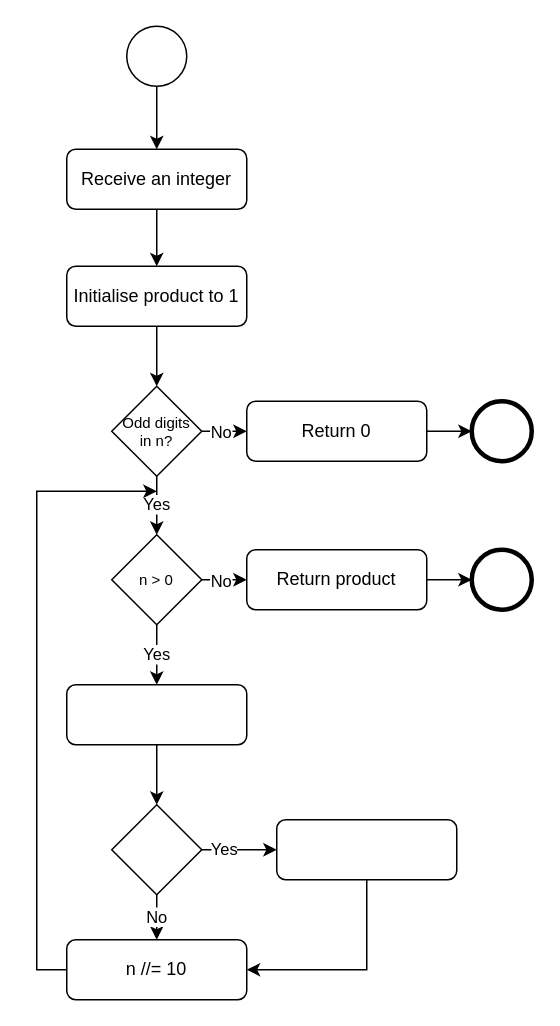
This 560x1026 diagram has some shape labels left out. Here are the shapes that lost their labels. From the top down, the box of each, then its label:
(65, 683, 247, 745): d = n % 10
(110, 803, 202, 895): is d even?
(275, 818, 457, 880): product *= d
